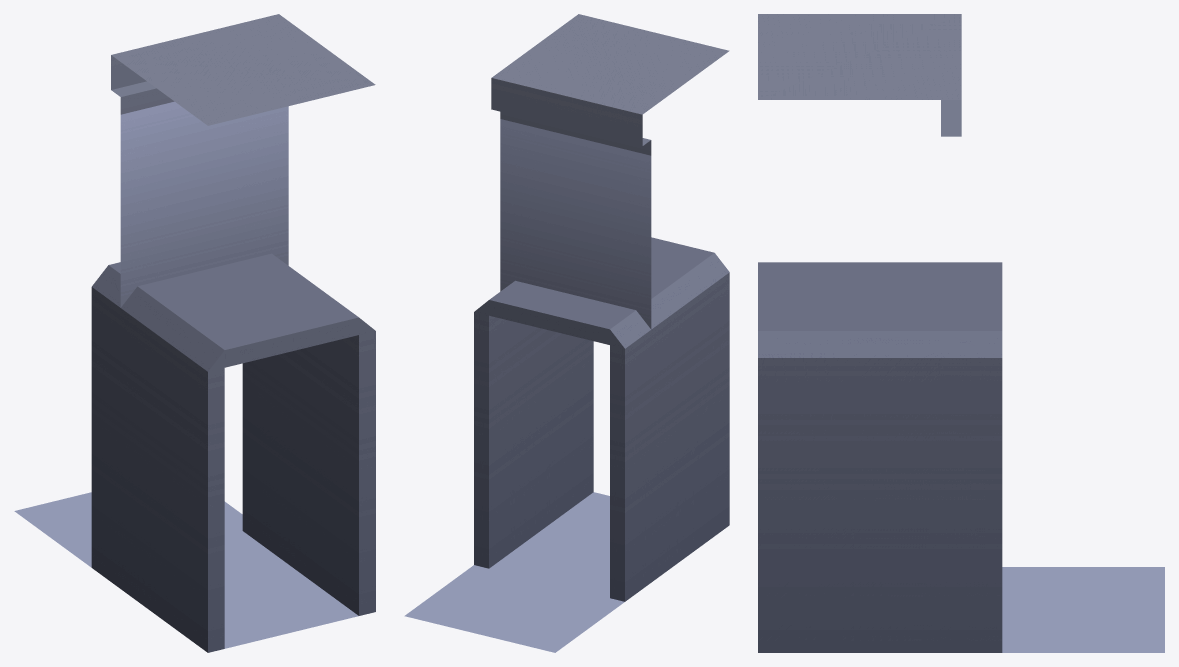
File: structure-doorway.glb
The picture shows the model from 3 angles, left to right: view 1: azimuth 30°, elevation 25°; view 2: azimuth 150°, elevation 25°; view 3: azimuth 270°, elevation 25°; orthographic projection. The views are drawn at different scales.
Visible parts, largest first — view 1: structure-doorway; view 2: structure-doorway; view 3: structure-doorway.
Part boxes in pixels (x1,y1,x2,y2): structure-doorway: [14, 14, 375, 652]; structure-doorway: [404, 14, 729, 652]; structure-doorway: [758, 14, 1164, 652].
Size of the model in its own units: 1 by 3 by 2.
Materials: 1 (1 with a texture image).
